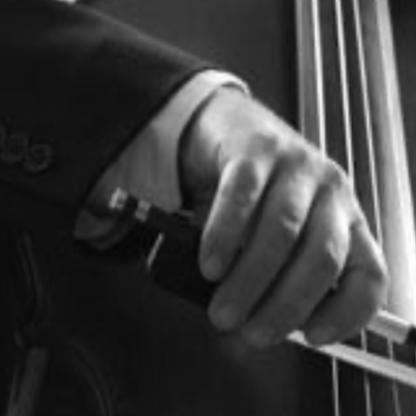good: (187, 98, 391, 362)
